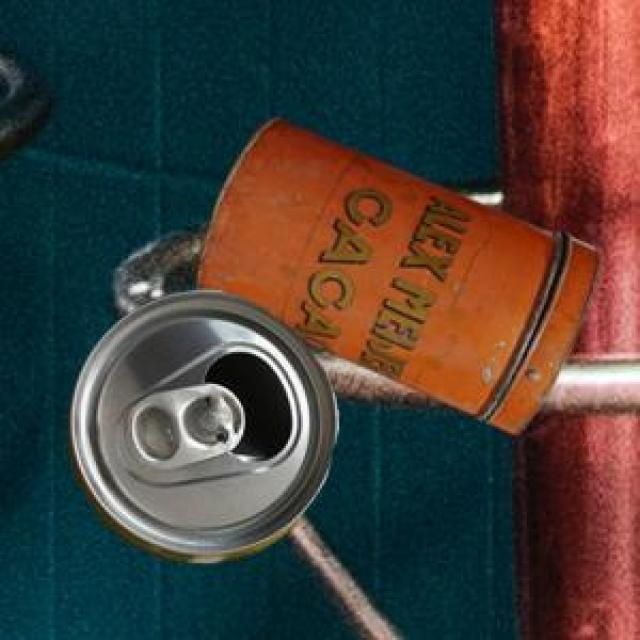Can: (193, 114, 594, 430), (65, 287, 336, 560)
